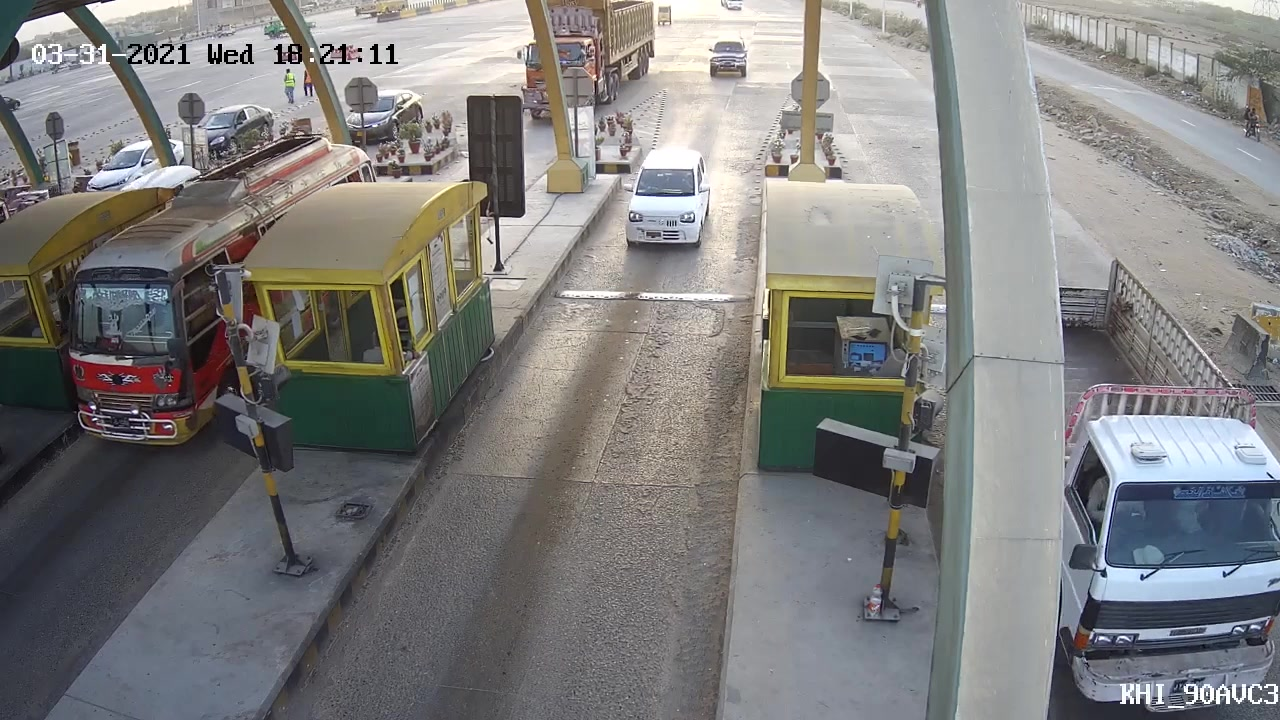F1: (616, 137, 723, 249)
